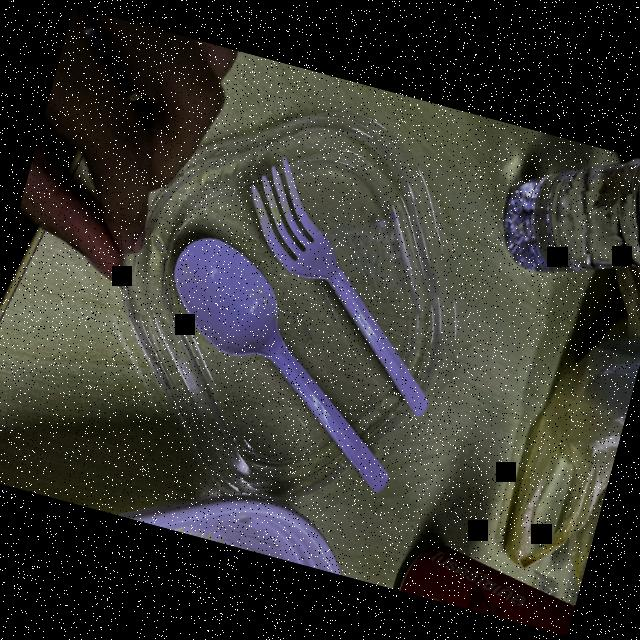plastic_spoon: (126, 220, 440, 504), (204, 142, 488, 418)
